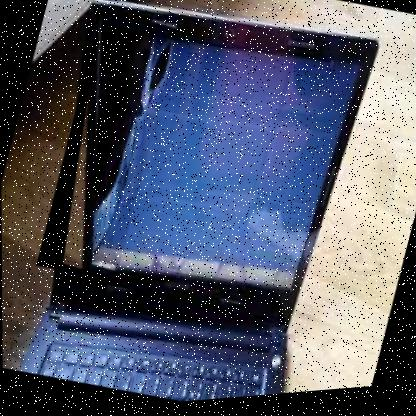crack: (33, 6, 181, 288)
